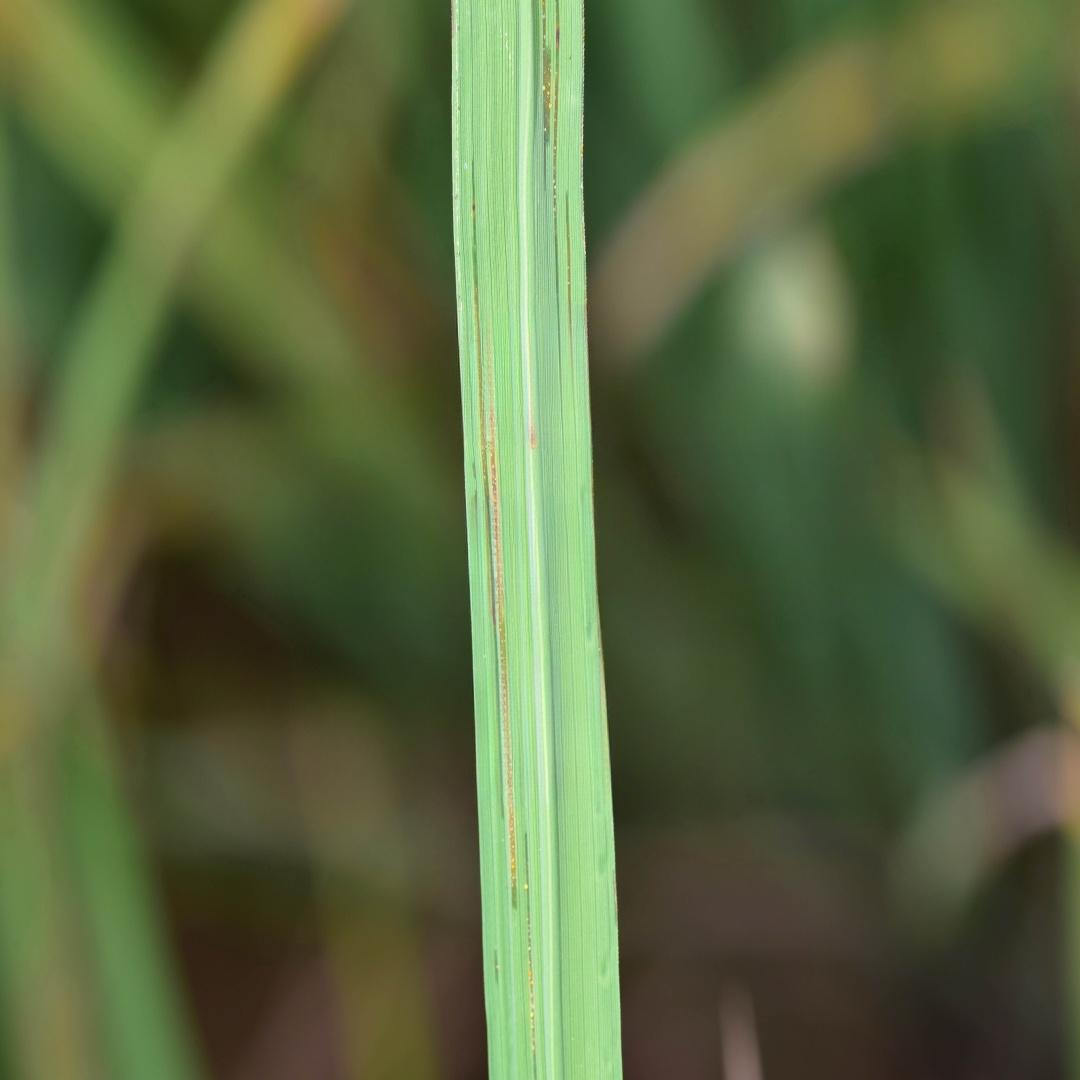BLS: (485, 321, 517, 908), (471, 144, 497, 627), (552, 1, 565, 444), (525, 832, 537, 1078), (541, 2, 552, 193), (566, 190, 573, 353)
LEAF: (451, 0, 622, 1079)
